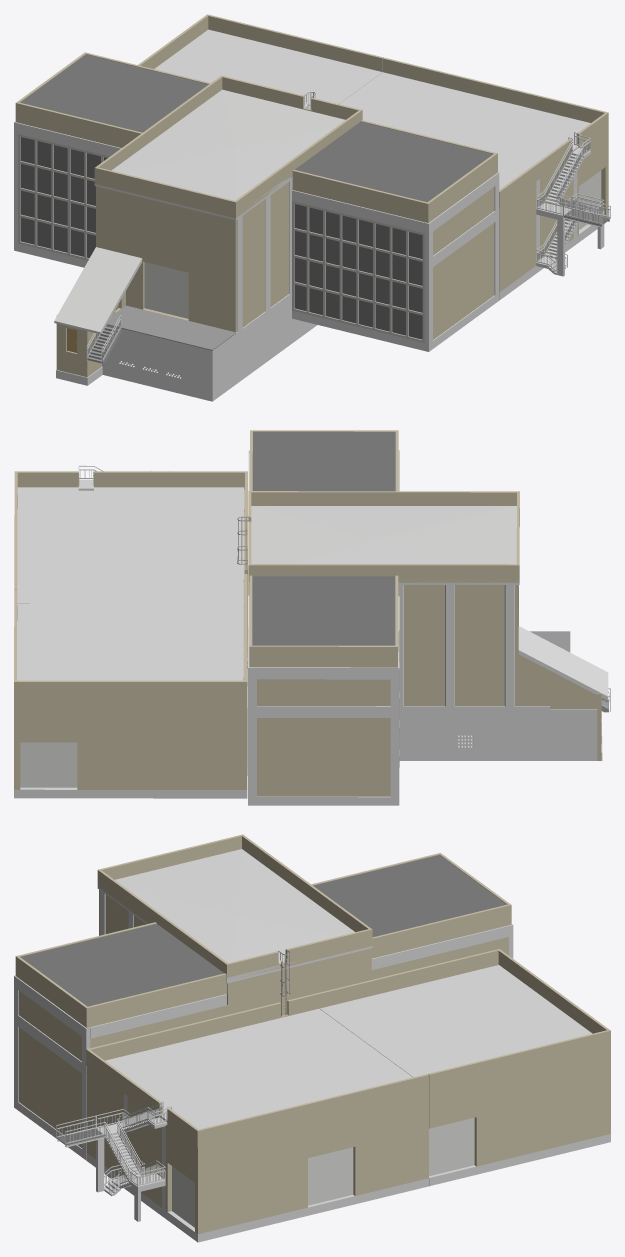
The picture shows the model from 3 angles, top to bottom: view 1: azimuth 30°, elevation 25°; view 2: azimuth 150°, elevation 25°; view 3: azimuth 270°, elevation 25°; orthographic projection. The views are drawn at different scales.
Parts seen in each view (by area): view 1: 2qCZKyN4LDoAXqAKizs0vT, 2qCZKyN4LDoAXqAKizs0uh, 0Oy0P5Qzf1iQNpkOVtTtYg, 2Y7P2Vcrf4Iu25wT_65DOe, 2qCZKyN4LDoAXqAKizs0v$, 34glN7np56teFdCGu8sywz, 2_$cyLasr6hhnDJ15U4YxI, 2_$cyLasr6hhnDJ15U4YXU, 2DAK1yj5vCBuIr7FZMmHhV, 2r_c9RXCH1qRBBF$XN2Udm, 1SHoyB_Zr7bxjTd1SfXDJt, 0RwHq6t89CAhCHtuuOEYmM (+31 smaller); view 2: 2qCZKyN4LDoAXqAKizs0uh, 2_$cyLasr6hhnDJ15U4YhK, 2qCZKyN4LDoAXqAKizs0v$, 2qCZKyN4LDoAXqAKizs0vT, 2_$cyLasr6hhnDJ15U4ZAm, 2_$cyLasr6hhnDJ15U4Y$B, 34glN7np56teFdCGu8sywz, 2Y7P2Vcrf4Iu25wT_65DOe, 0RwHq6t89CAhCHtuuOEYmG, 16YQycv_92BQSTQeKlbQZw, 16YQycv_92BQSTQeKlbQ06, 3bO$TDQ8X0Nu2EisiIsB3g (+20 smaller); view 3: 2qCZKyN4LDoAXqAKizs0uh, 16YQycv_92BQSTQeKlbSyZ, 2qCZKyN4LDoAXqAKizs0v$, 2qCZKyN4LDoAXqAKizs0vT, 2_$cyLasr6hhnDJ15U4YjN, 2Y7P2Vcrf4Iu25wT_65DOe, 34glN7np56teFdCGu8sywz, 11scdBsjXCW8hrhKFHIwac, 2_$cyLasr6hhnDJ15U4YxI, 2_$cyLasr6hhnDJ15U4YXU, 16YQycv_92BQSTQeKlbHM3, 16YQycv_92BQSTQeKlbQpS (+29 smaller).
Part boxes in pixels (x1=…): 2qCZKyN4LDoAXqAKizs0vT: x1=94, y1=89, x2=345, y2=220; 2qCZKyN4LDoAXqAKizs0uh: x1=339, y1=72, x2=590, y2=189; 0Oy0P5Qzf1iQNpkOVtTtYg: x1=99, y1=187, x2=232, y2=331; 2Y7P2Vcrf4Iu25wT_65DOe: x1=295, y1=121, x2=493, y2=202; 2qCZKyN4LDoAXqAKizs0v$: x1=154, y1=29, x2=382, y2=108; 34glN7np56teFdCGu8sywz: x1=20, y1=54, x2=208, y2=132; 2_$cyLasr6hhnDJ15U4YxI: x1=433, y1=187, x2=494, y2=339; 2_$cyLasr6hhnDJ15U4YXU: x1=499, y1=129, x2=608, y2=292; 2DAK1yj5vCBuIr7FZMmHhV: x1=232, y1=182, x2=288, y2=332; 2r_c9RXCH1qRBBF$XN2Udm: x1=54, y1=247, x2=142, y2=334; 1SHoyB_Zr7bxjTd1SfXDJt: x1=102, y1=331, x2=209, y2=392; 0RwHq6t89CAhCHtuuOEYmM: x1=209, y1=296, x2=308, y2=393; 2qCZKyN4LDoAXqAKizs0uh: x1=17, y1=487, x2=244, y2=603; 2_$cyLasr6hhnDJ15U4YhK: x1=14, y1=699, x2=243, y2=789; 2qCZKyN4LDoAXqAKizs0v$: x1=17, y1=604, x2=243, y2=680; 2qCZKyN4LDoAXqAKizs0vT: x1=248, y1=506, x2=519, y2=584; 2_$cyLasr6hhnDJ15U4ZAm: x1=257, y1=679, x2=390, y2=796; 2_$cyLasr6hhnDJ15U4Y$B: x1=248, y1=584, x2=518, y2=705; 34glN7np56teFdCGu8sywz: x1=252, y1=576, x2=395, y2=645; 2Y7P2Vcrf4Iu25wT_65DOe: x1=252, y1=432, x2=395, y2=491; 0RwHq6t89CAhCHtuuOEYmG: x1=399, y1=709, x2=519, y2=752; 16YQycv_92BQSTQeKlbQZw: x1=14, y1=680, x2=247, y2=699; 16YQycv_92BQSTQeKlbQ06: x1=248, y1=564, x2=519, y2=582; 3bO$TDQ8X0Nu2EisiIsB3g: x1=519, y1=709, x2=597, y2=760; 2qCZKyN4LDoAXqAKizs0uh: x1=105, y1=1008, x2=412, y2=1129; 16YQycv_92BQSTQeKlbSyZ: x1=202, y1=1091, x2=428, y2=1233; 2qCZKyN4LDoAXqAKizs0v$: x1=320, y1=965, x2=592, y2=1077; 2qCZKyN4LDoAXqAKizs0vT: x1=97, y1=849, x2=372, y2=983; 2_$cyLasr6hhnDJ15U4YjN: x1=429, y1=1048, x2=606, y2=1166; 2Y7P2Vcrf4Iu25wT_65DOe: x1=20, y1=924, x2=224, y2=1006; 34glN7np56teFdCGu8sywz: x1=313, y1=855, x2=506, y2=937; 11scdBsjXCW8hrhKFHIwac: x1=89, y1=949, x2=498, y2=1060; 2_$cyLasr6hhnDJ15U4YxI: x1=19, y1=981, x2=89, y2=1147; 2_$cyLasr6hhnDJ15U4YXU: x1=86, y1=1066, x2=202, y2=1234; 16YQycv_92BQSTQeKlbHM3: x1=227, y1=949, x2=368, y2=1015; 16YQycv_92BQSTQeKlbQpS: x1=196, y1=1074, x2=428, y2=1147.
Size of the model in its own units: 54.23 by 17.13 by 49.27.
